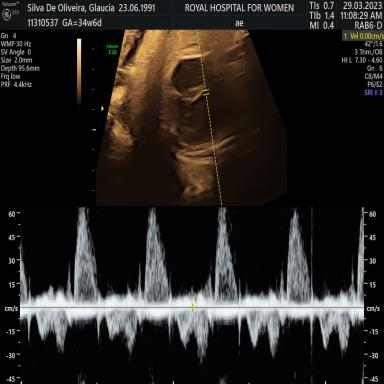Ultrasound-Waves: (24, 206, 363, 384)
